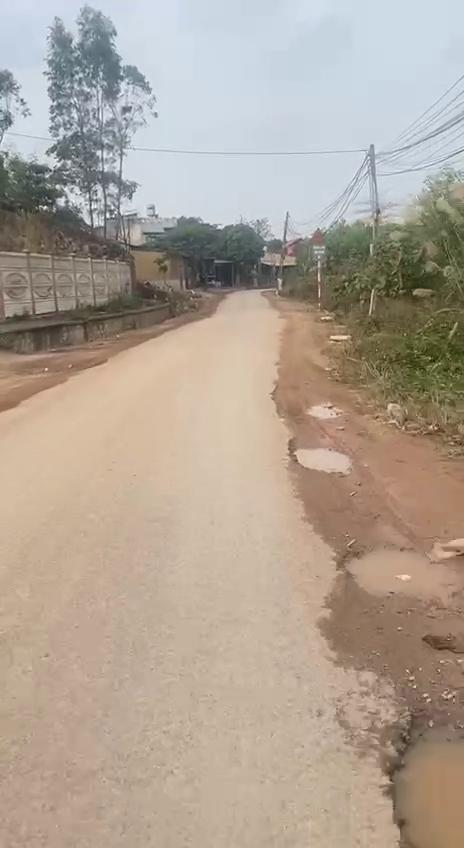pothole: (378, 694, 464, 848), (332, 526, 464, 622), (284, 436, 356, 477)
